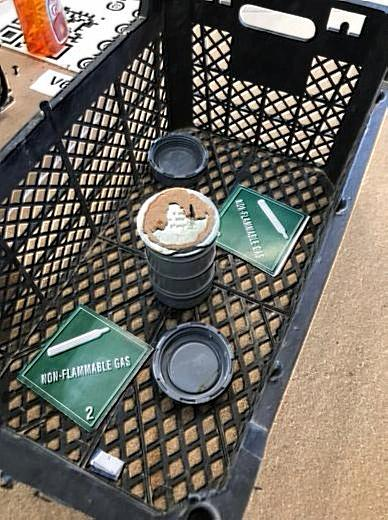non-flammable-gas: (16, 305, 154, 431), (209, 186, 311, 278)
